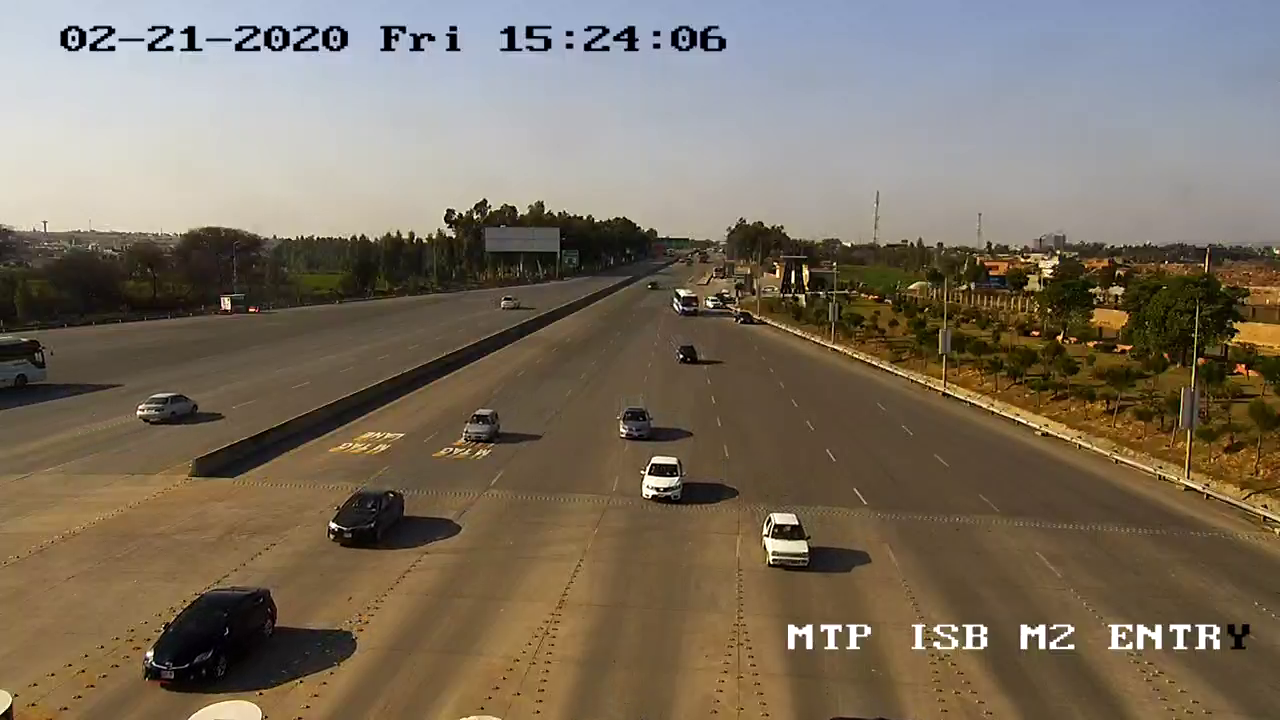f1: (134, 576, 284, 695), (321, 481, 409, 556), (759, 503, 821, 575), (633, 450, 694, 509)
